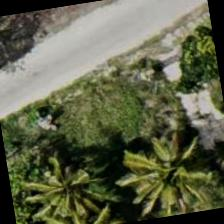Kelapa_Sawit: (118, 123, 221, 221), (12, 137, 117, 223)
